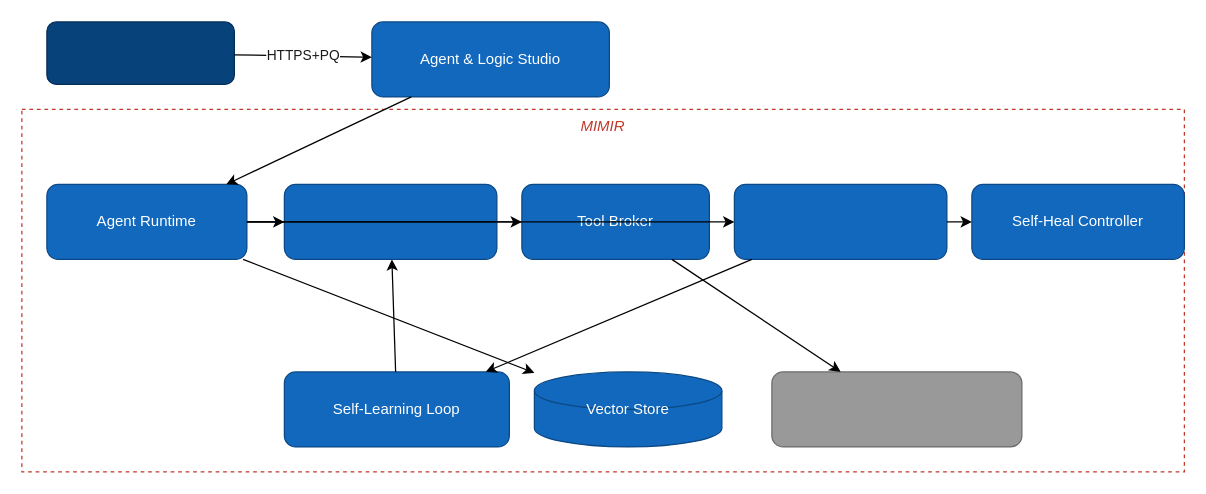
The diagram is 1206 pixels wide and 494 high, and some of its shapes have lost their labels. The shapes that lost their labels are listed below. From the top down, each one's box as (x1, y1, x2, y2) in pixels, then its label:
(46, 21, 234, 84): Builder / User
(283, 183, 497, 259): Mistral Small 3.2 Inference
(733, 183, 947, 259): Evals & Guardrails
(771, 371, 1022, 447): Midgard Object Fabric (OAG)
